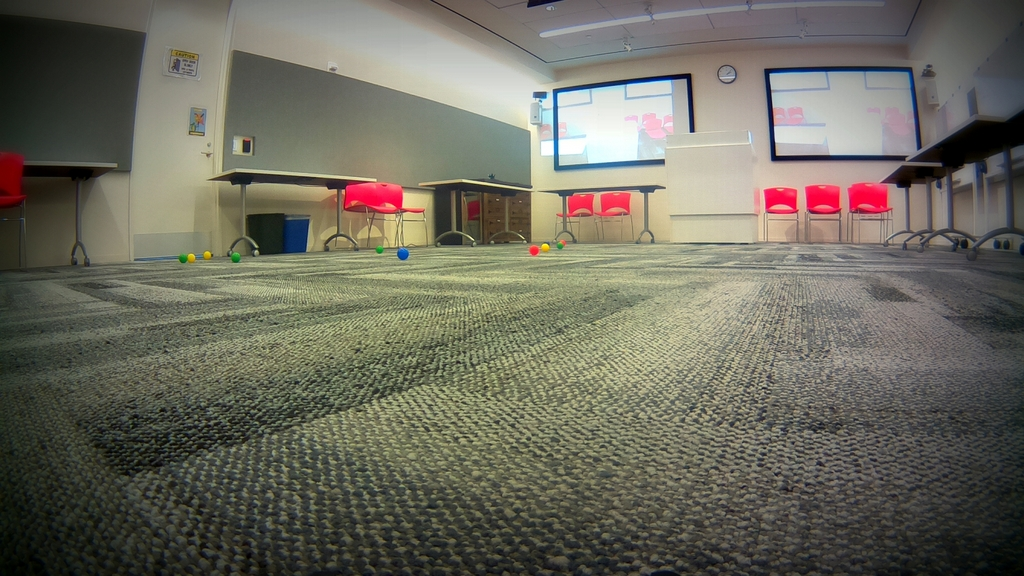ball: (540, 243, 551, 251)
